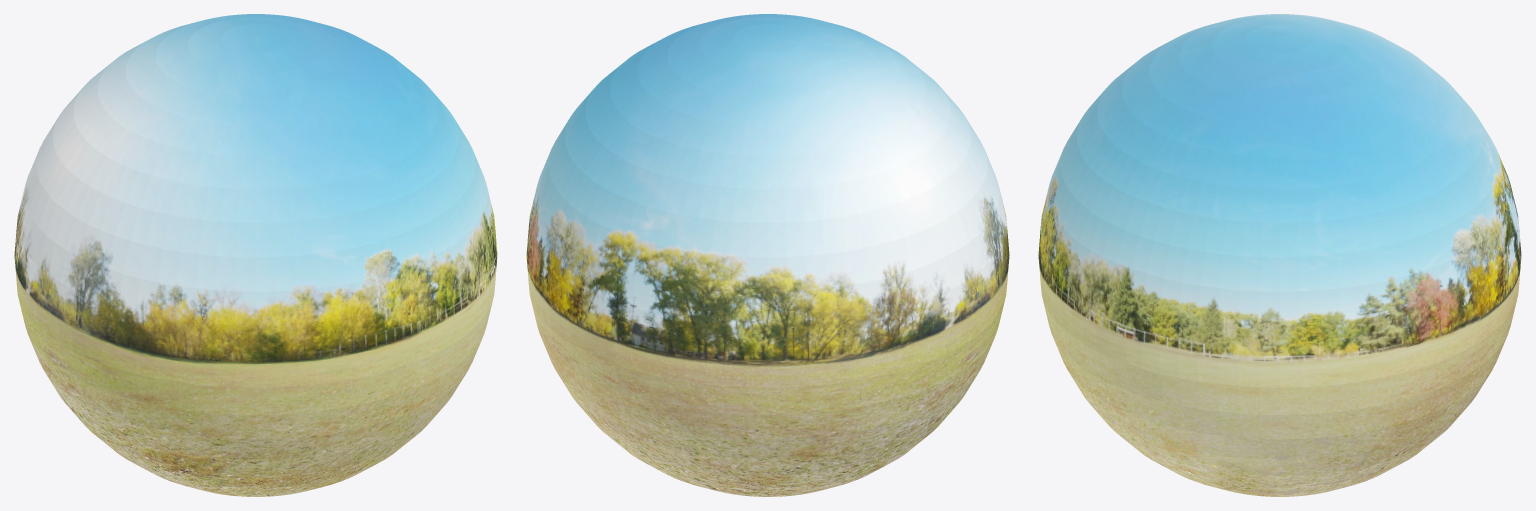
Rendered from industrial-hall.glb.
3 views of the same model, side by side, from view 1: azimuth 30°, elevation 25°; view 2: azimuth 150°, elevation 25°; view 3: azimuth 270°, elevation 25° (orthographic).
Parts seen in each view (by area): view 1: Environment_Park; view 2: Environment_Park; view 3: Environment_Park.
Boxes of the visible parts, x1=… form: Environment_Park: x1=14, y1=14, x2=497, y2=496; Environment_Park: x1=526, y1=14, x2=1009, y2=496; Environment_Park: x1=1038, y1=14, x2=1521, y2=496.
Size of the model in its own units: 128 by 128 by 128.
Materials: 28 (5 with a texture image).
